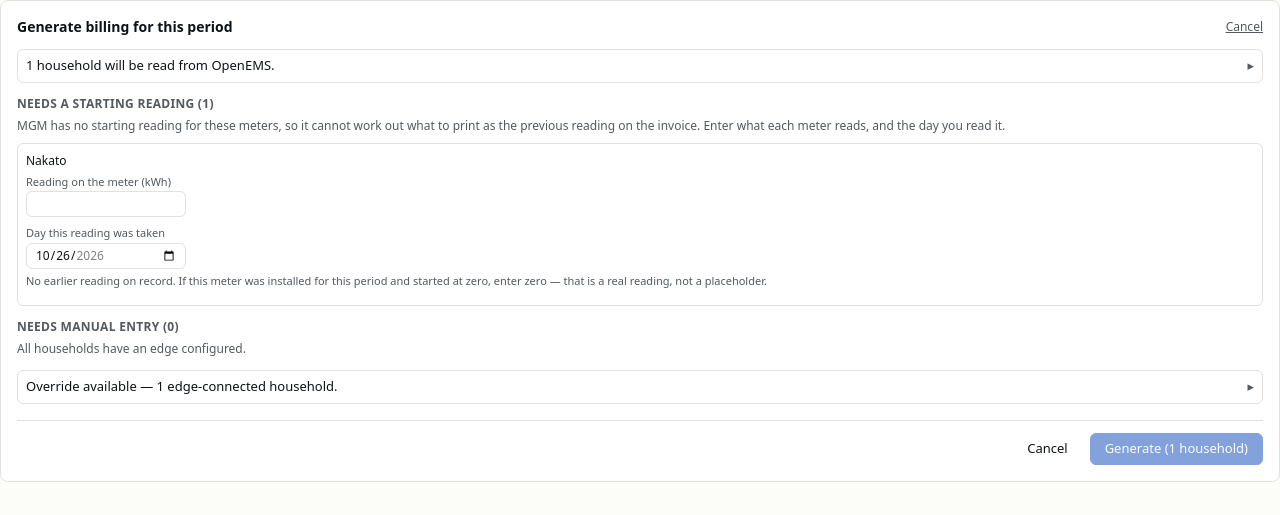
Test: PreflightPanel — seed readings (#339) › renders the section and blocks Generate until the reading resolves
Check: the element with test id "preflight-needs-seed-section" is shown, box x1=17 y1=94 x2=1263 y2=306
Check: the button with test id "preflight-generate-button" is disabled, box x1=1090 y1=432 x2=1263 y2=464
Type "4196" into the number field with test id "preflight-seed-dial-h-1".
click(106, 204); type("4196")  # box x1=26 y1=191 x2=186 y2=217
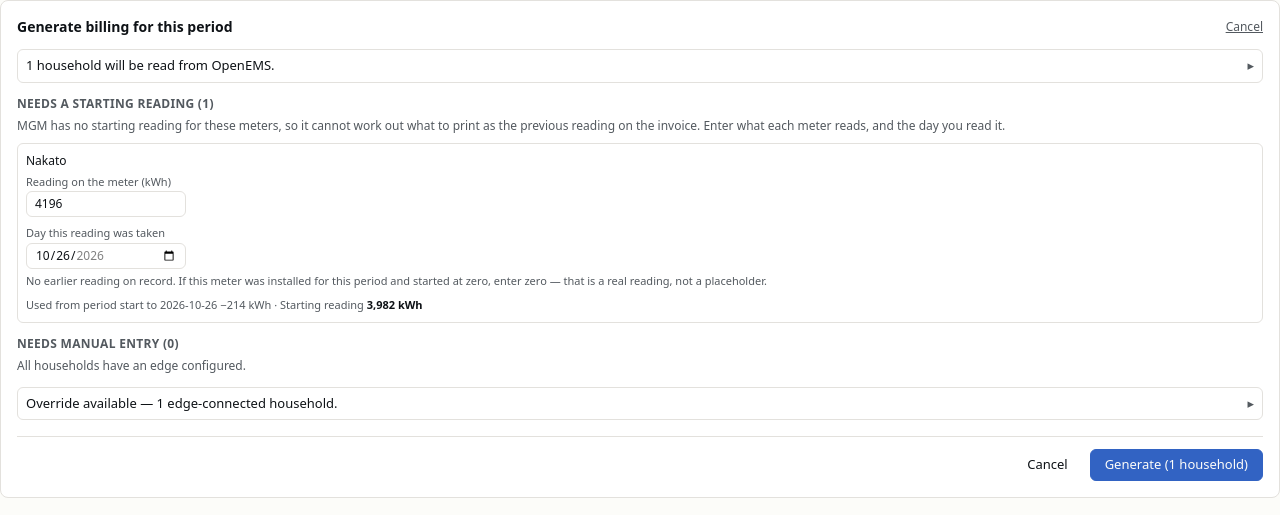
Check: the button with test id "preflight-generate-button" is enabled, box x1=1090 y1=449 x2=1263 y2=481
Check: the element with test id "preflight-seed-math-h-1" shows "214", box x1=227 y1=297 x2=246 y2=312
Check: the element with test id "preflight-seed-math-h-1" shows "3,982", box x1=367 y1=297 x2=395 y2=312
